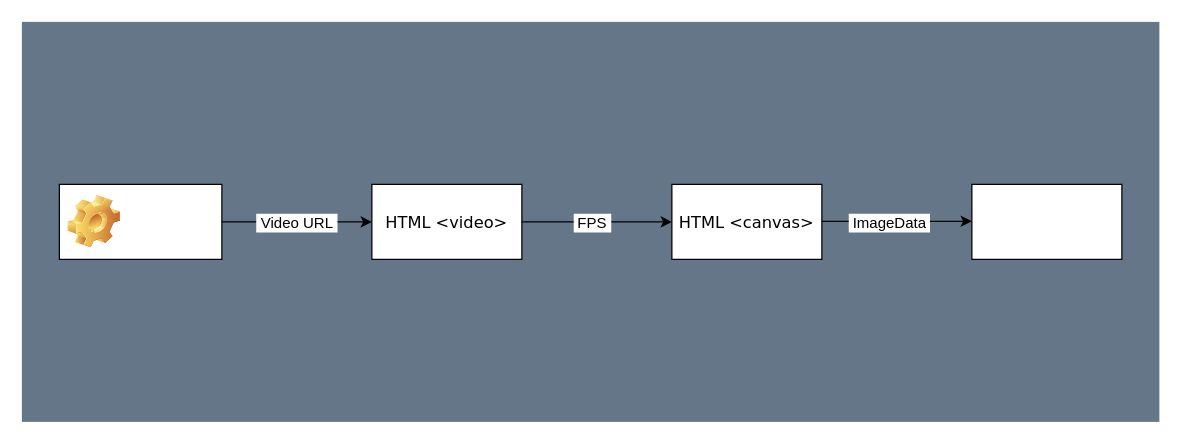
Image size: 1180x443. Some labels were removed from this diagram. Each missing label, with the centre of its shape:
Excel sheet: the point at 1046,221
Settings: the point at 140,221
